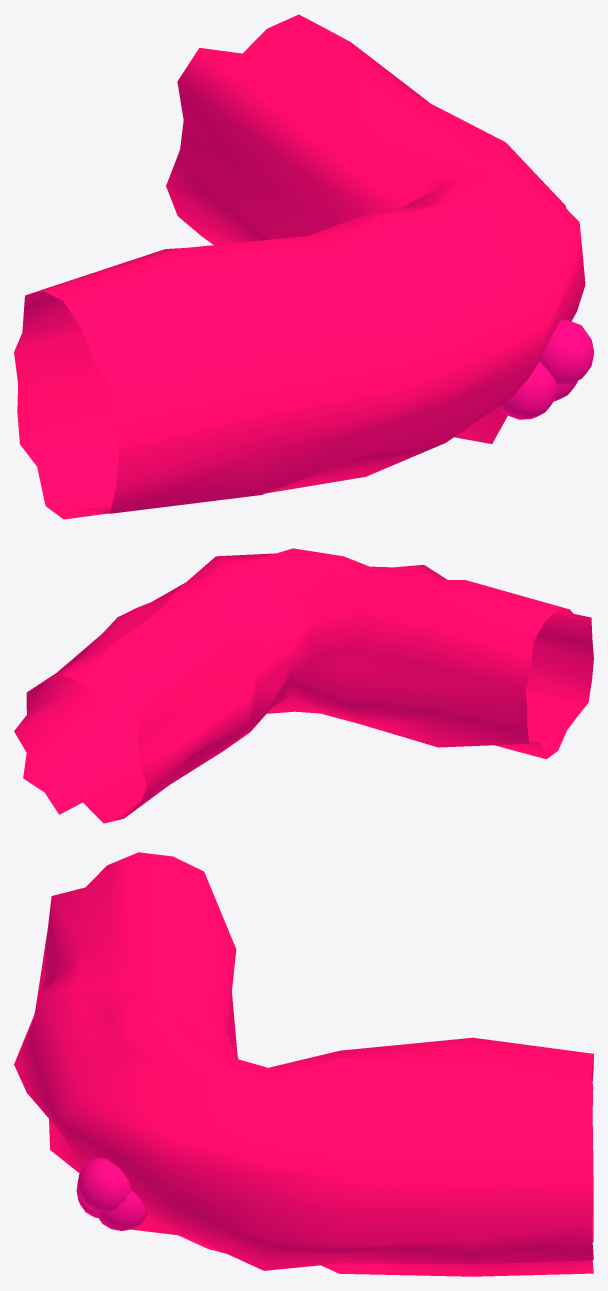
File: veinTube.fbx
The picture shows the model from 3 angles, top to bottom: view 1: azimuth 30°, elevation 25°; view 2: azimuth 150°, elevation 25°; view 3: azimuth 270°, elevation 25°; orthographic projection. The views are drawn at different scales.
Visible parts, largest first — view 1: veinTube; view 2: veinTube; view 3: veinTube.
Part boxes in pixels (x1,y1,x2,y2): veinTube: (14,14,593,519); veinTube: (14,548,593,823); veinTube: (14,852,593,1276).
Bounding box in the file's own units: 82.44 × 36.66 × 82.6.
